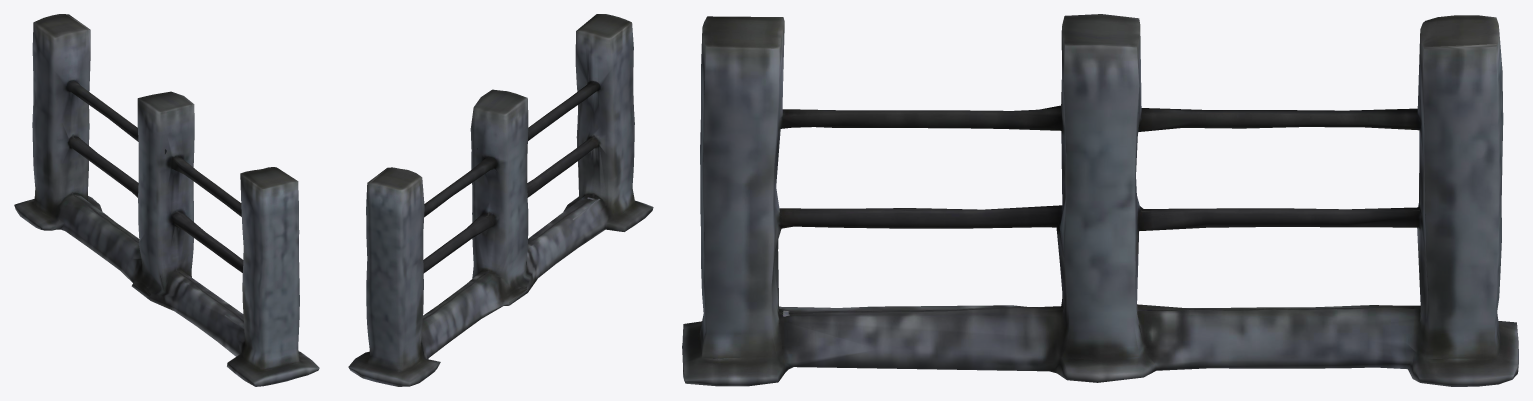
Rendered from f8e8b3ada7b2_Soviet_era_concrete.fbx.
3 renders of one model, left to right at view 1: azimuth 30°, elevation 25°; view 2: azimuth 150°, elevation 25°; view 3: azimuth 270°, elevation 25°, orthographic. The views are drawn at different scales.
Parts seen in each view (by area): view 1: mesh; view 2: mesh; view 3: mesh.
Part boxes in pixels (x1,y1,x2,y2): mesh: (14,14,319,386); mesh: (348,14,653,386); mesh: (682,14,1518,386).
Bounding box in the file's own units: 1.8 × 11.09 × 4.86.
